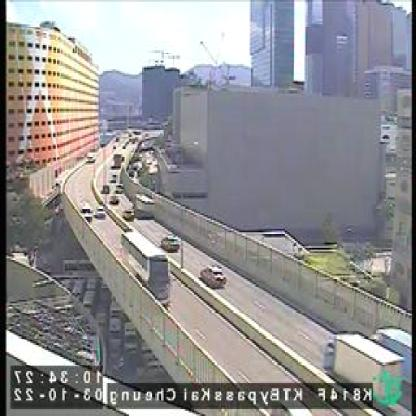Bus: (122, 230, 172, 307)
Car: (203, 267, 226, 288), (162, 234, 180, 248), (84, 203, 93, 222), (125, 208, 136, 218), (98, 206, 106, 217), (118, 184, 125, 192), (112, 196, 118, 203), (102, 186, 110, 190)
Truck: (320, 331, 405, 402), (135, 192, 155, 215)
